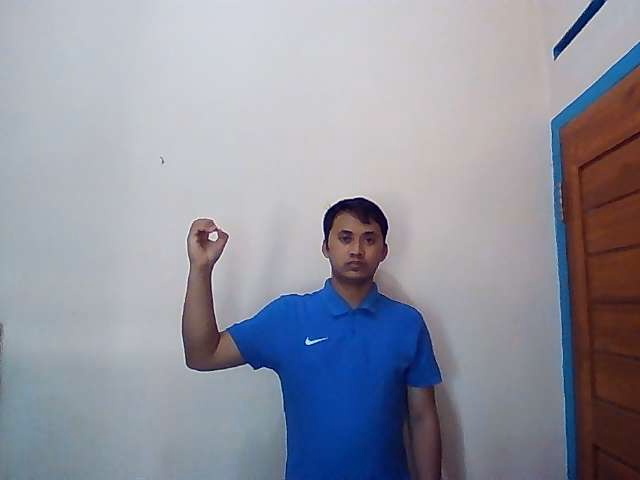O: (186, 218, 231, 267)
